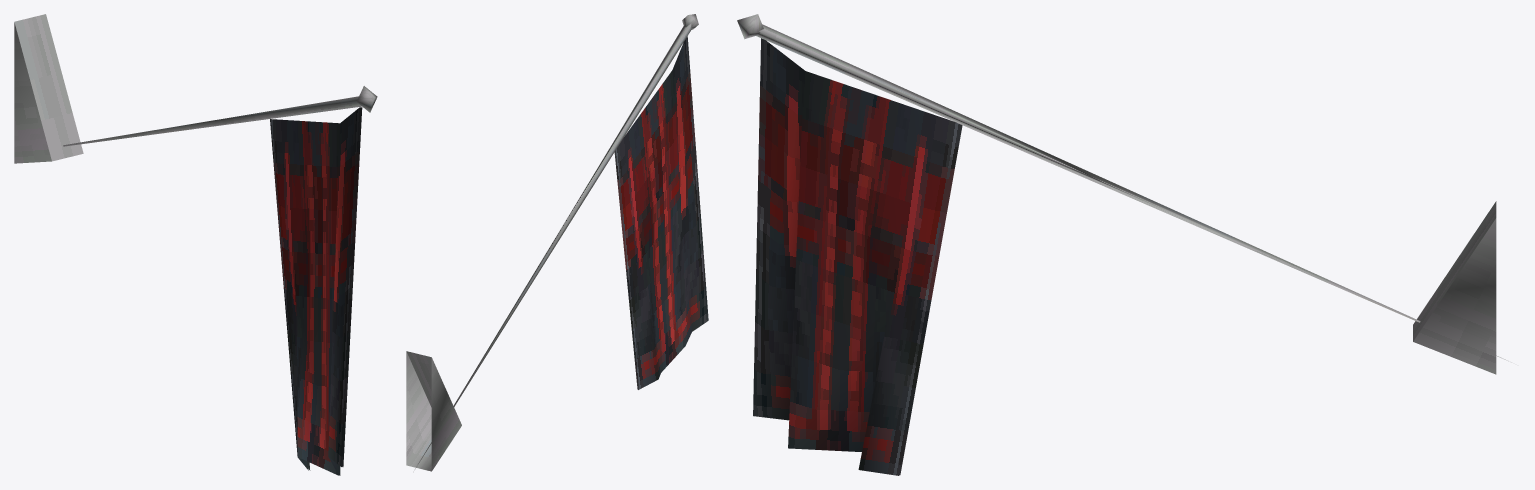
The model's file is thm_corl_banner_govt_angled_l2.fbx.
3 renders of one model, left to right at view 1: azimuth 30°, elevation 25°; view 2: azimuth 150°, elevation 25°; view 3: azimuth 270°, elevation 25°, orthographic. The views are drawn at different scales.
Parts seen in each view (by area): view 1: mesh_node; view 2: mesh_node; view 3: mesh_node.
Boxes of the visible parts, bbox=[...] form: mesh_node: bbox=[14, 14, 377, 475]; mesh_node: bbox=[406, 14, 708, 471]; mesh_node: bbox=[737, 14, 1511, 475].
Bounding box in the file's own units: 0.3486 × 3.51 × 5.39.
